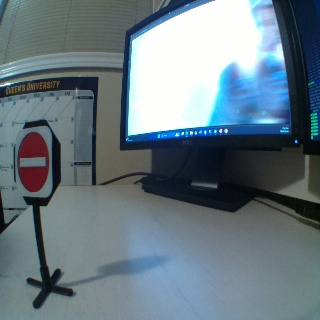sign_noentry: (14, 129, 54, 195)
